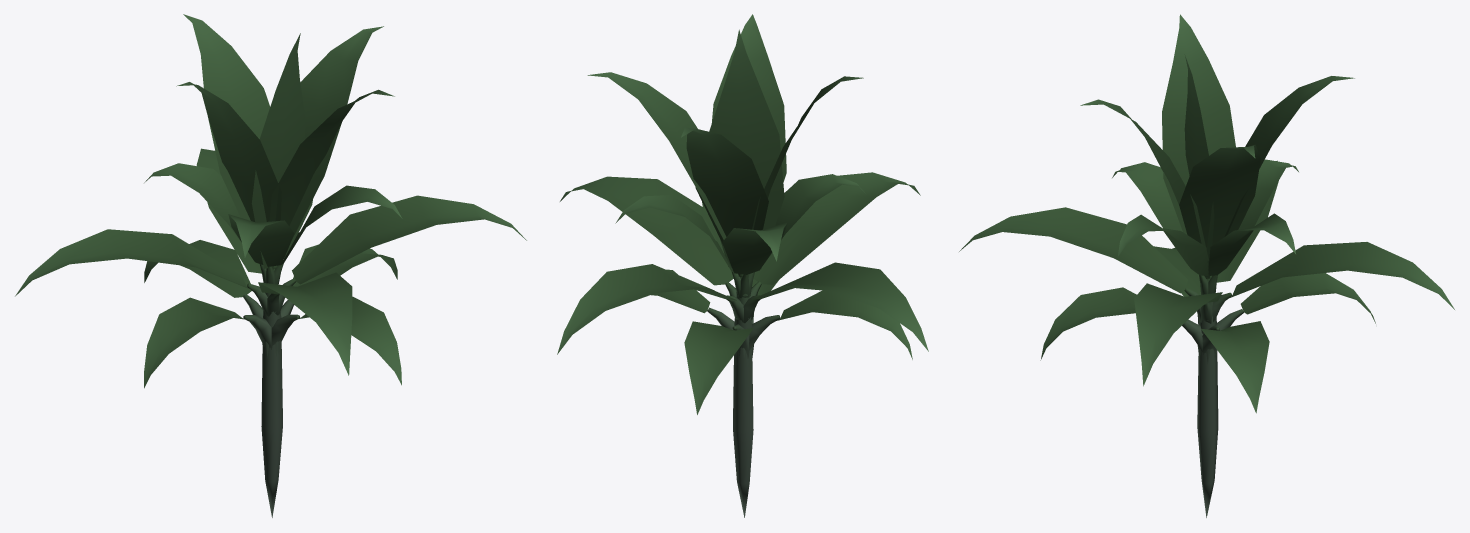
File: plants-leafy-plants-pointed-leaf-plant_v3.glb
3 renders of one model, left to right at view 1: azimuth 30°, elevation 25°; view 2: azimuth 150°, elevation 25°; view 3: azimuth 270°, elevation 25°, orthographic. The views are drawn at different scales.
Visible parts, largest first — view 1: Pointed Leaf Plant_v3; view 2: Pointed Leaf Plant_v3; view 3: Pointed Leaf Plant_v3.
Boxes of the visible parts, x1,y1,x2,y2 form: Pointed Leaf Plant_v3: [15, 14, 526, 517]; Pointed Leaf Plant_v3: [557, 14, 928, 517]; Pointed Leaf Plant_v3: [959, 14, 1454, 517].
Size of the model in its own units: 0.477 by 0.5 by 0.4769.
